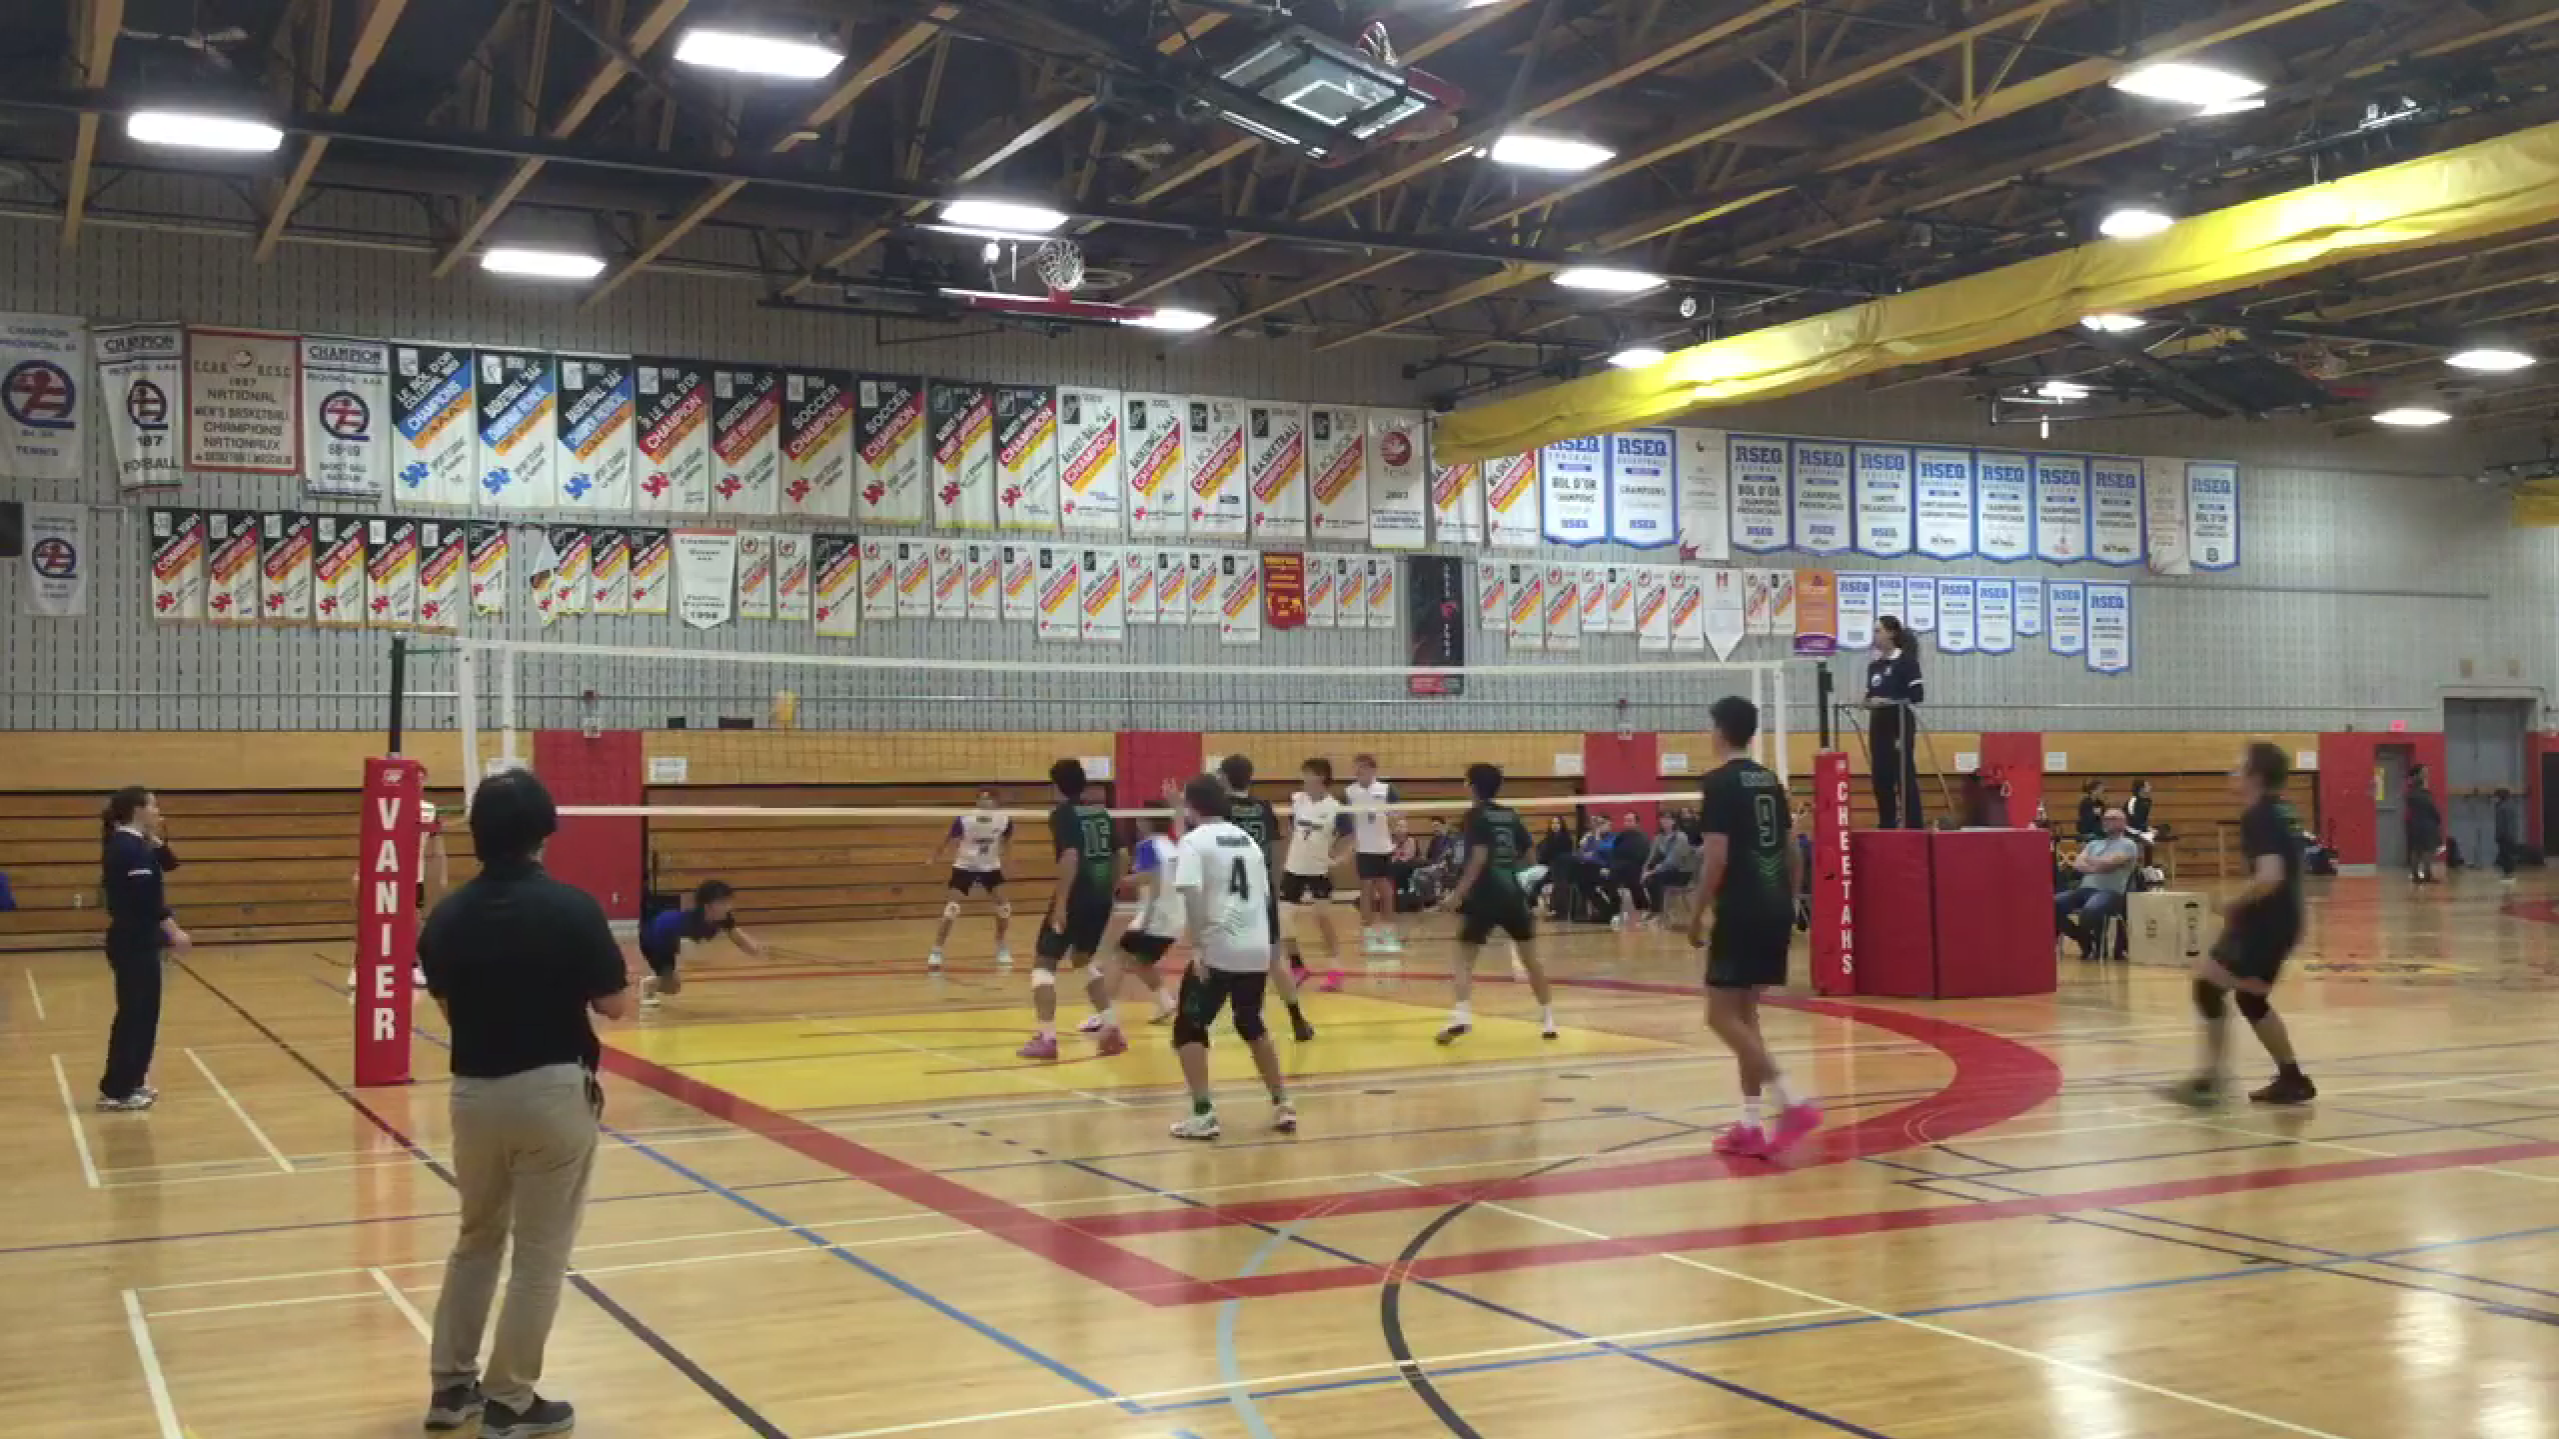Ball: (766, 687, 800, 724)
